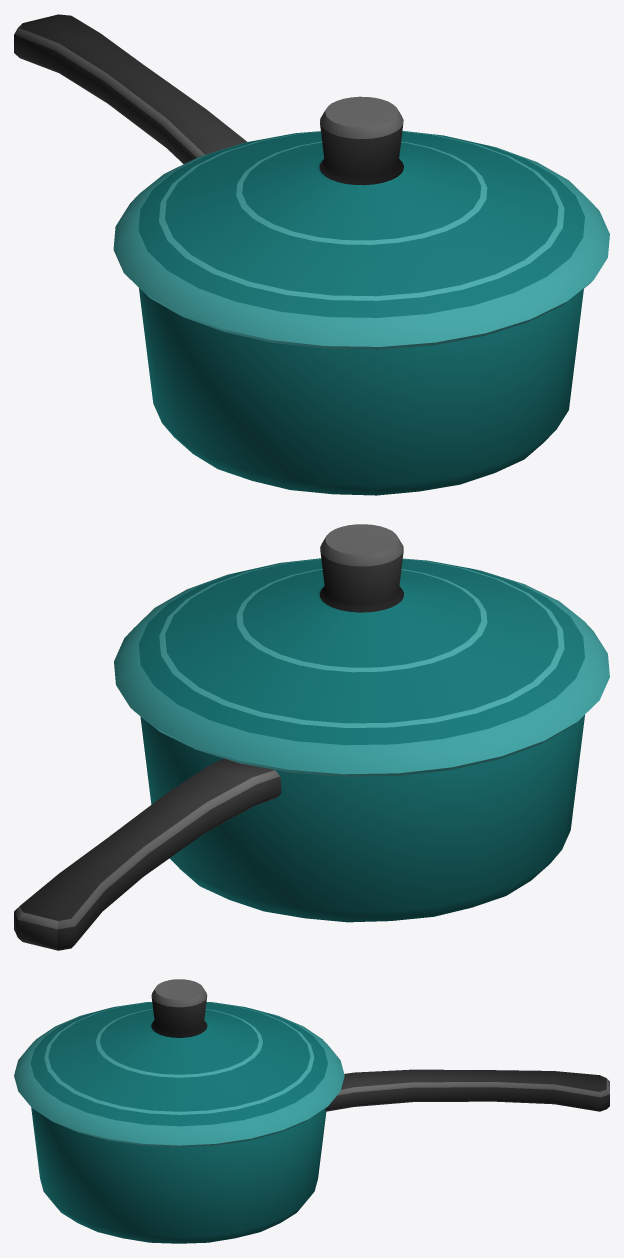
Rendered from Pan_16.fbx.
3 renders of one model, top to bottom at view 1: azimuth 30°, elevation 25°; view 2: azimuth 150°, elevation 25°; view 3: azimuth 270°, elevation 25°, orthographic. The views are drawn at different scales.
Visible parts, largest first — view 1: Pan_16 Top, Pan_16; view 2: Pan_16 Top, Pan_16; view 3: Pan_16 Top, Pan_16.
Part boxes in pixels (<box>): Pan_16 Top: <box>113,96,609,349</box>; Pan_16: <box>14,14,583,495</box>; Pan_16 Top: <box>114,524,609,776</box>; Pan_16: <box>14,715,584,950</box>; Pan_16 Top: <box>14,979,344,1147</box>; Pan_16: <box>31,1069,609,1243</box>.
Size of the model in its own units: 0.2526 by 0.1681 by 0.4551.
